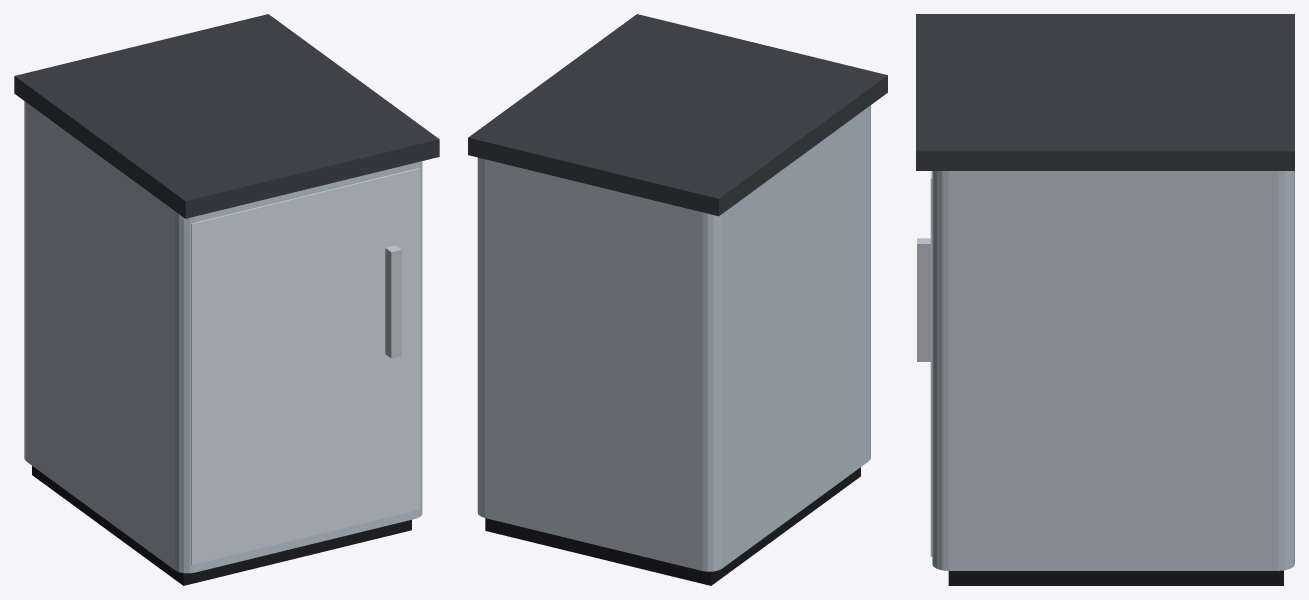
The model's file is mini_fridge.glb.
3 views of the same model, side by side, from view 1: azimuth 30°, elevation 25°; view 2: azimuth 150°, elevation 25°; view 3: azimuth 270°, elevation 25° (orthographic). The views are drawn at different scales.
Parts seen in each view (by area): view 1: mini_fridge_Body; view 2: mini_fridge_Body; view 3: mini_fridge_Body.
Part boxes in pixels (x1,y1,x2,y2): mini_fridge_Body: [14, 14, 439, 585]; mini_fridge_Body: [468, 14, 887, 585]; mini_fridge_Body: [916, 14, 1294, 585].
Size of the model in its own units: 0.6 by 0.9 by 0.7.
